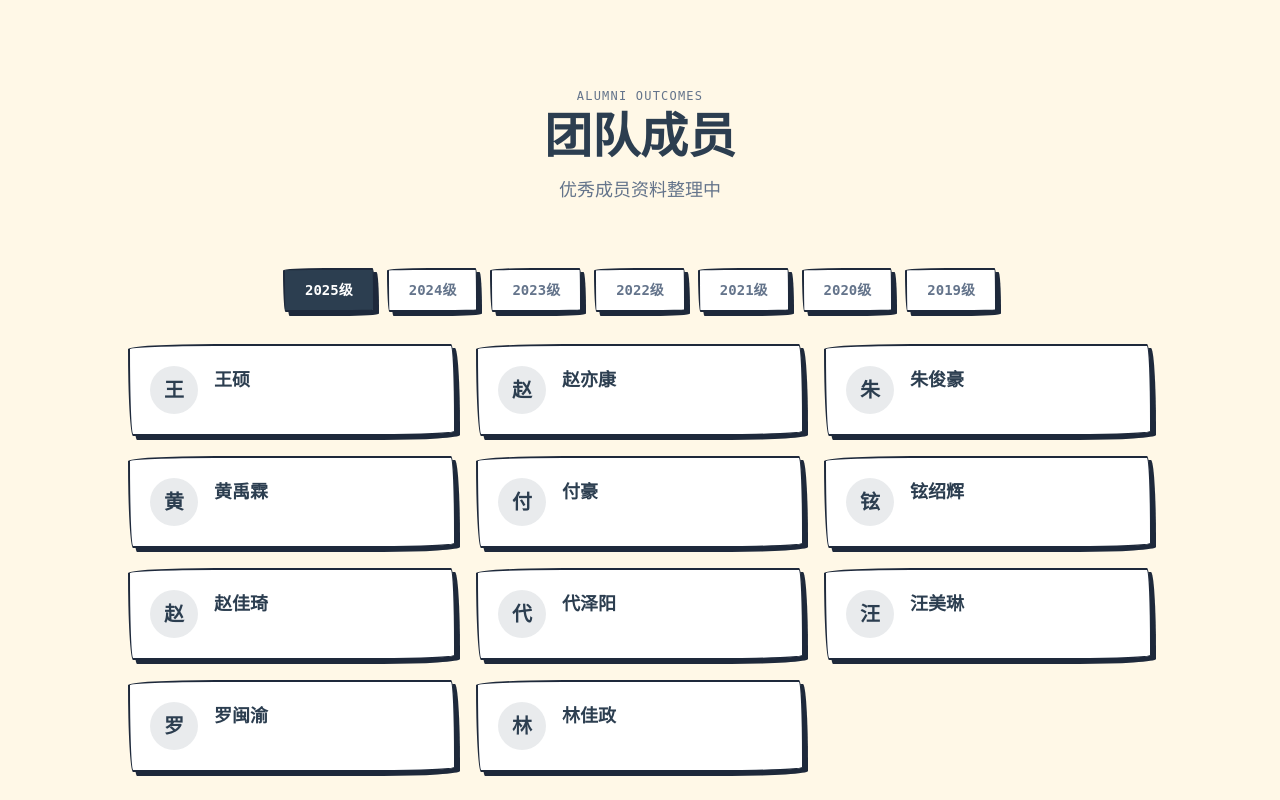
it: shows the newest grade by default and switches the visible alumni
Expected: the heading "王硕" is shown, [214,366,250,394]
Expected: the heading "龚云飞" is not shown
Click the tab "2024级" at (433, 290), box [387,268,478,312]
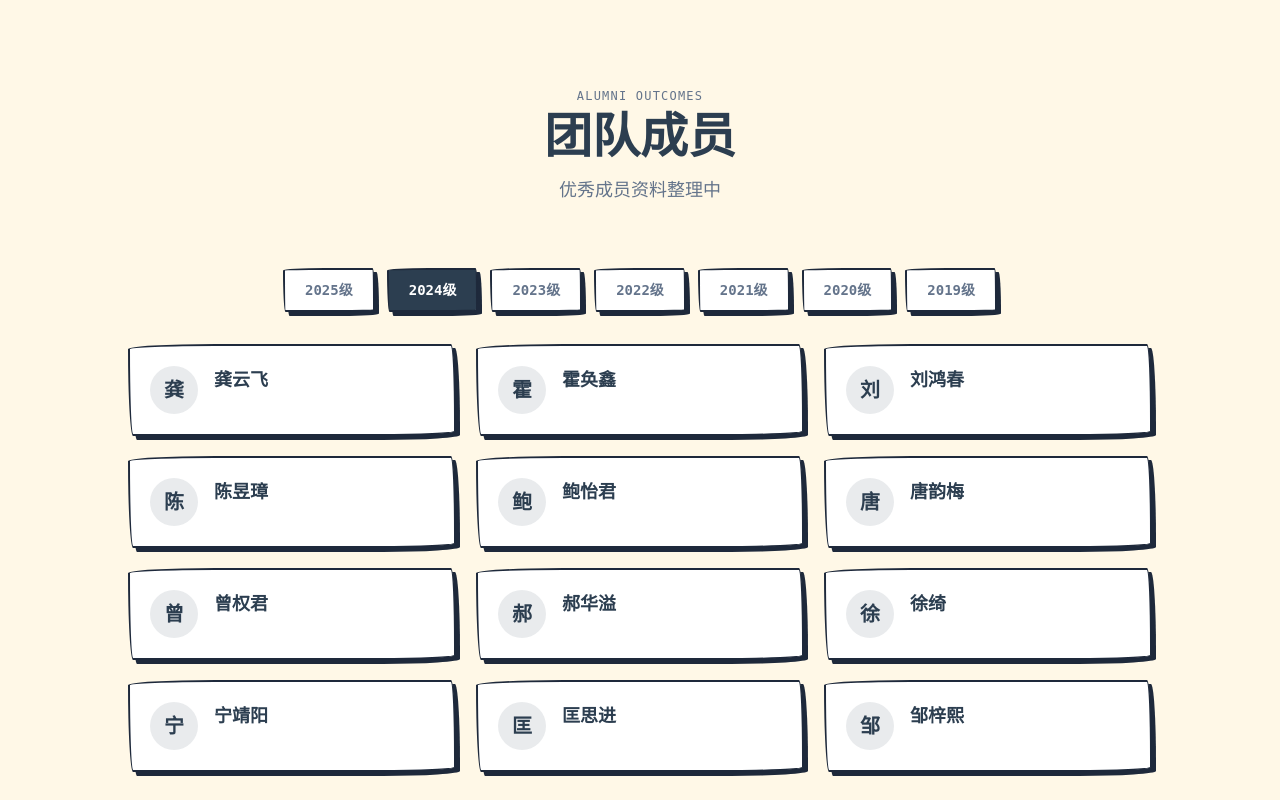
Now the heading "龚云飞" is shown, box [214,366,268,394]
Now the heading "王硕" is gone
